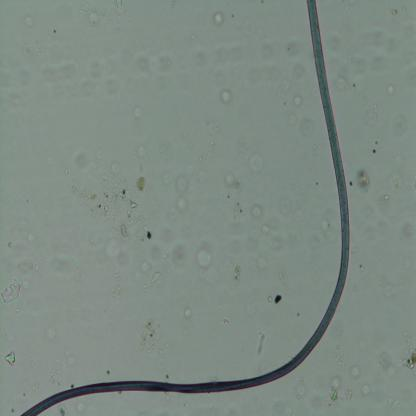Background material: (65, 176, 140, 240), (250, 224, 282, 284), (66, 62, 116, 99), (136, 46, 172, 94), (14, 230, 44, 276), (192, 136, 218, 188), (308, 204, 335, 253), (352, 85, 382, 129), (136, 316, 166, 356), (282, 38, 310, 80), (374, 193, 398, 235), (279, 191, 306, 228), (238, 5, 263, 40), (375, 277, 411, 300), (328, 41, 348, 79), (110, 240, 132, 274), (141, 240, 162, 274), (195, 244, 214, 281), (297, 109, 322, 137), (325, 374, 342, 412), (346, 50, 369, 77), (107, 264, 124, 300), (0, 277, 21, 306), (400, 333, 416, 370), (79, 2, 100, 30), (173, 175, 188, 214), (386, 163, 404, 192), (104, 150, 123, 177), (172, 240, 190, 268), (378, 352, 396, 380), (137, 219, 157, 244), (329, 339, 347, 365), (142, 270, 165, 290), (122, 98, 141, 122), (402, 212, 416, 243), (262, 59, 278, 86), (353, 166, 371, 190), (56, 346, 74, 368), (48, 360, 61, 390), (247, 155, 265, 175), (75, 144, 90, 167), (332, 75, 351, 93), (224, 173, 242, 191), (230, 264, 242, 290), (218, 88, 234, 107), (296, 376, 308, 401), (2, 348, 17, 367), (247, 204, 264, 220), (56, 401, 73, 416), (256, 330, 266, 355), (310, 135, 320, 160), (134, 172, 146, 192), (367, 138, 379, 157), (266, 292, 283, 305), (139, 139, 147, 166), (349, 365, 363, 380), (386, 1, 400, 16), (211, 12, 224, 26), (292, 94, 303, 108), (205, 66, 216, 80), (386, 85, 398, 96), (114, 0, 124, 12), (50, 330, 58, 344), (356, 258, 364, 271), (222, 318, 232, 326), (184, 309, 192, 318), (169, 0, 176, 9)
Microfibre: (19, 0, 350, 416)
